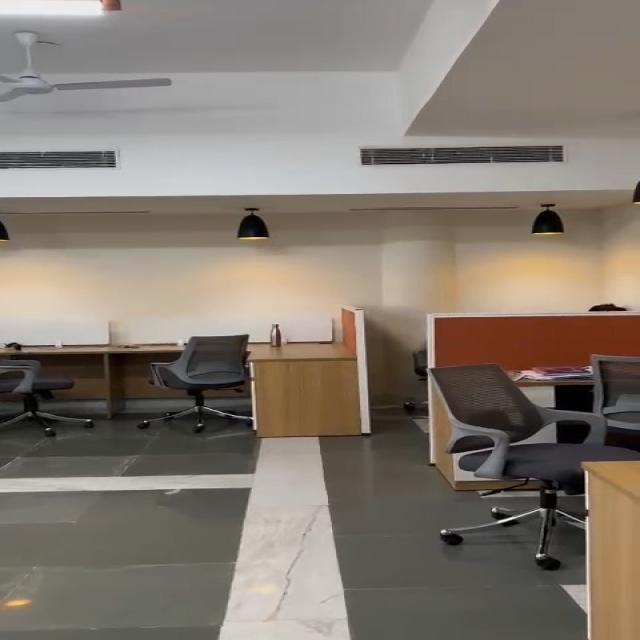floor: (0, 445, 441, 640)
furniture: (408, 370, 640, 522), (155, 329, 272, 446), (3, 337, 74, 439)
wall: (0, 204, 640, 319)
